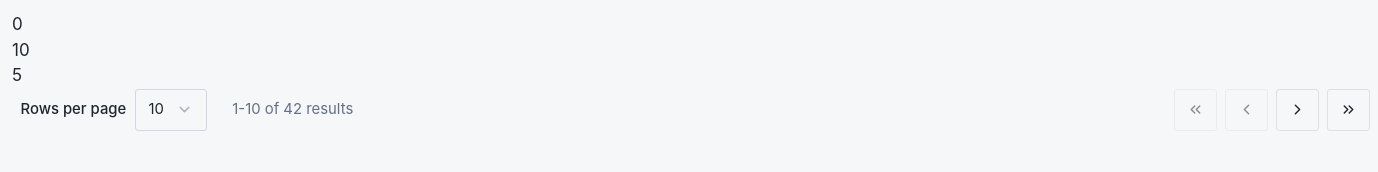
Scenario: usePaginationTable › advances the page index via the next-page control
Click the 3rd button named "go to next page": (1297,110) [1276,88,1318,131]
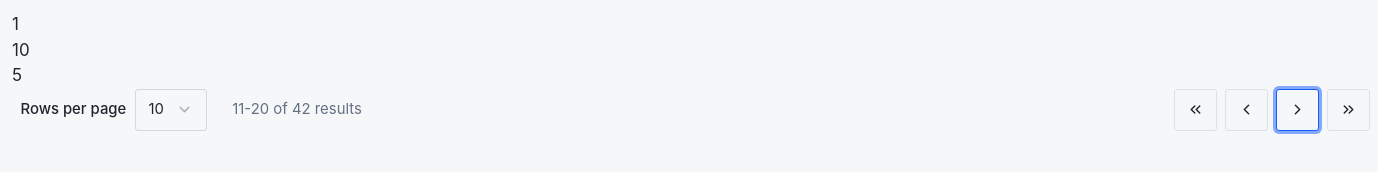
Expected: the text with test id "page-index" reads "1", [12,14,19,34]
